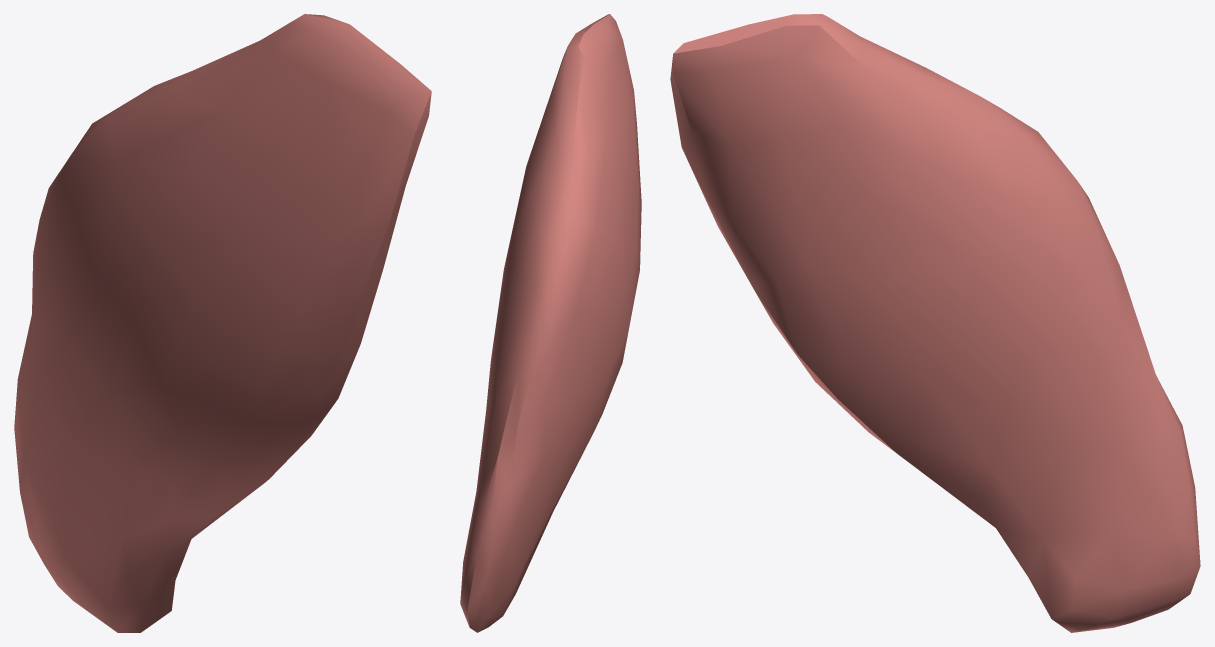
Rendered from fma81582_mm2378m.glb.
3 renders of one model, left to right at view 1: azimuth 30°, elevation 25°; view 2: azimuth 150°, elevation 25°; view 3: azimuth 270°, elevation 25°, orthographic. The views are drawn at different scales.
Parts seen in each view (by area): view 1: FMA81582_MM2378M; view 2: FMA81582_MM2378M; view 3: FMA81582_MM2378M.
Boxes of the visible parts, <box> form: FMA81582_MM2378M: <box>14,14,431,632</box>; FMA81582_MM2378M: <box>460,14,641,632</box>; FMA81582_MM2378M: <box>670,14,1200,632</box>.
Bounding box in the file's own units: 0.00554 × 0.0229 × 0.0174.
